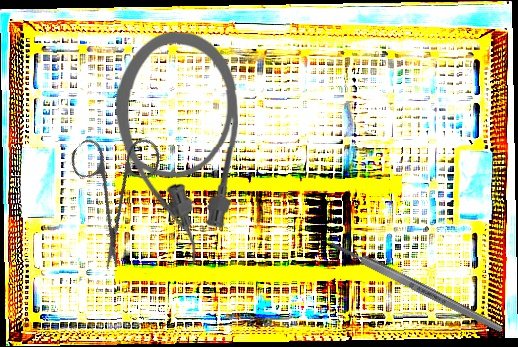Cannula: (113, 29, 240, 265)
Iris Scissors: (32, 107, 198, 273)
Scalpel Handle: (328, 237, 505, 336)
